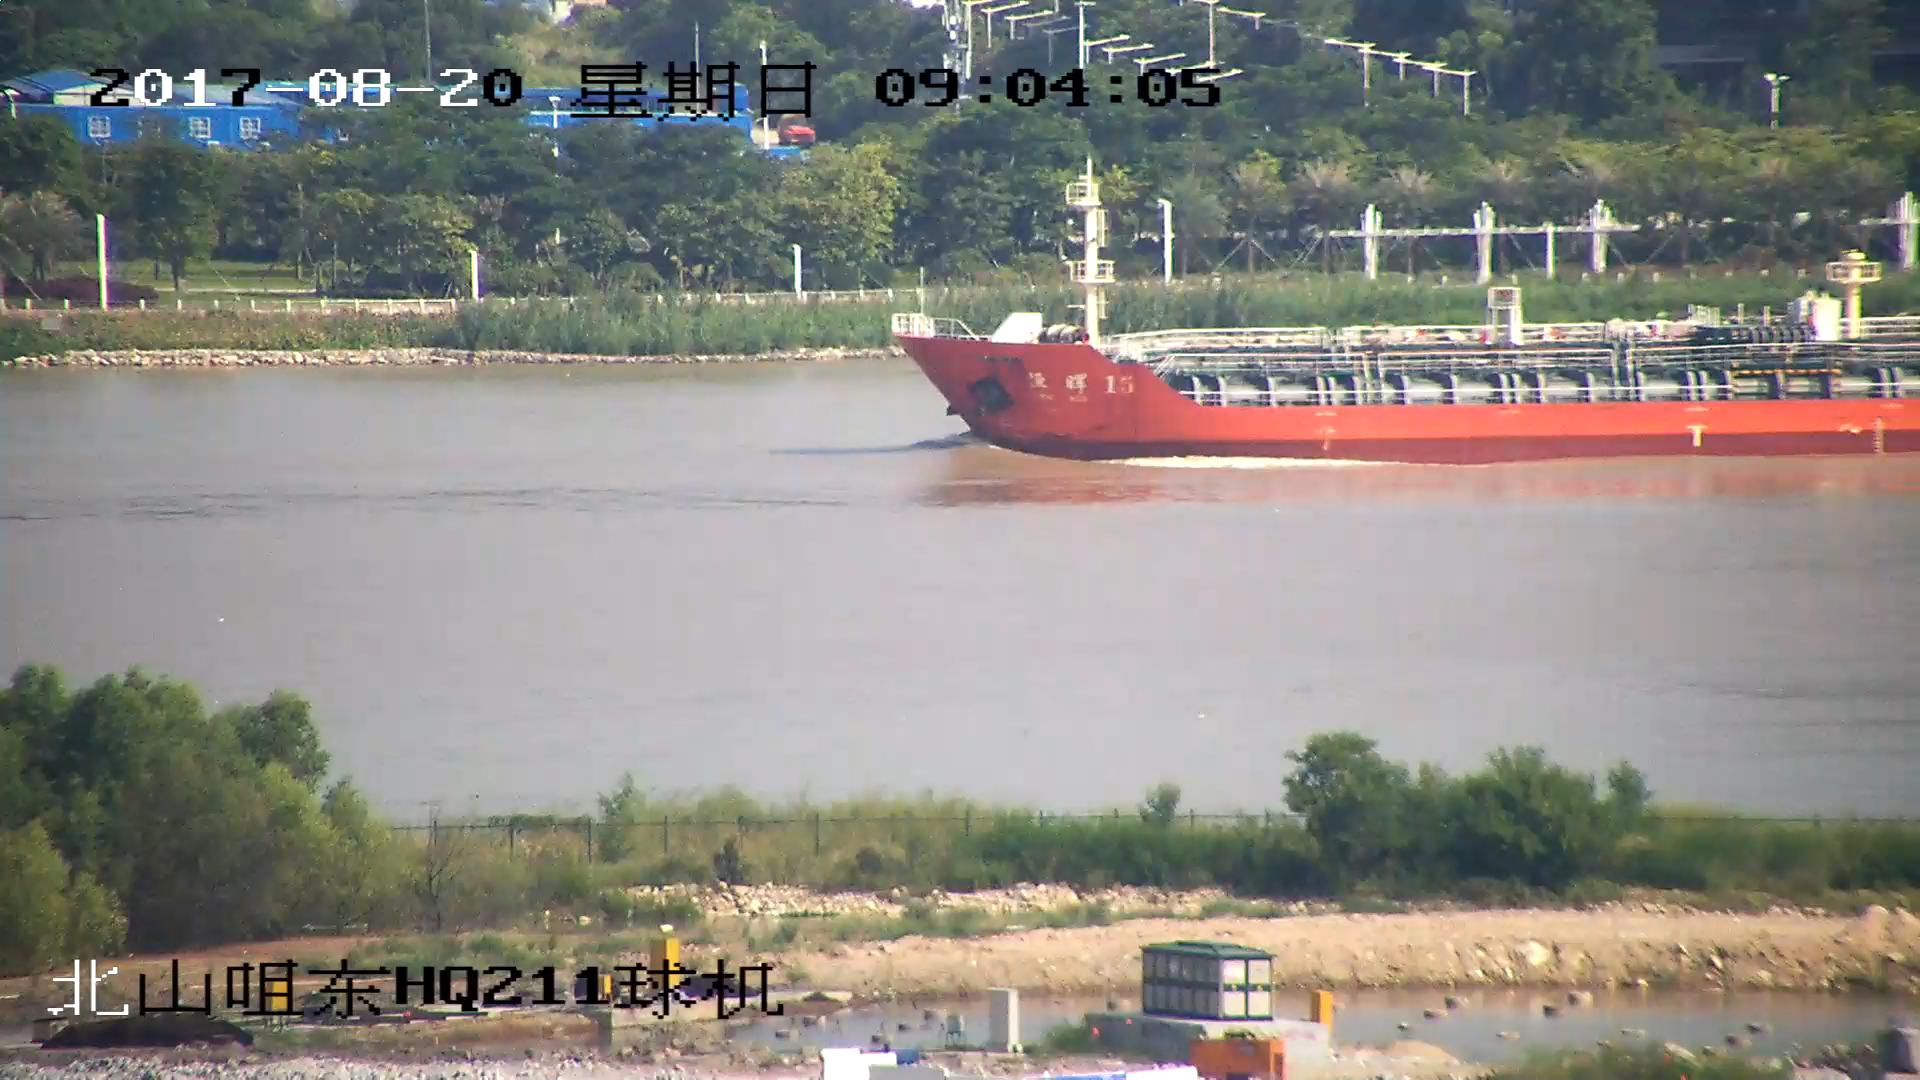general cargo ship: (889, 178, 1920, 462)
